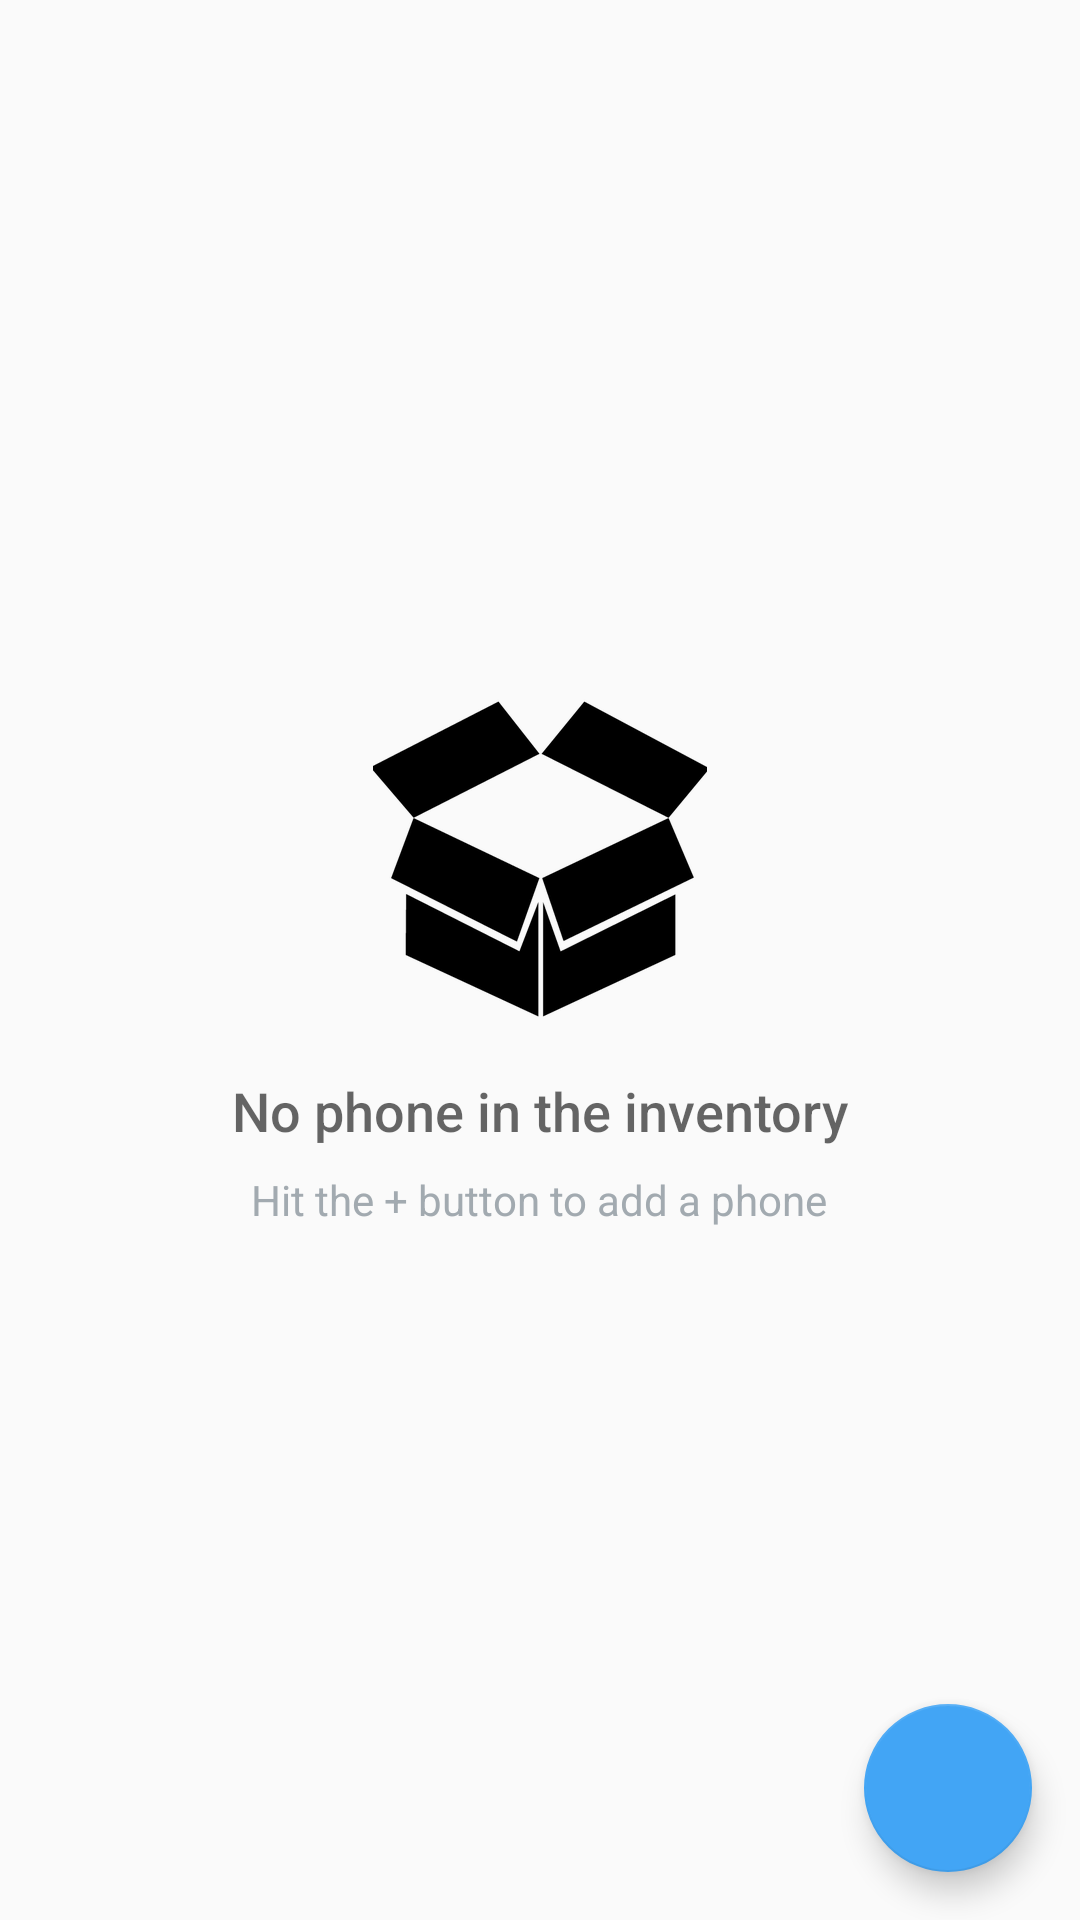

Where to tap for icons on this 1080x1920 app screen, as point (x, y):
empty box: point (540, 859)
